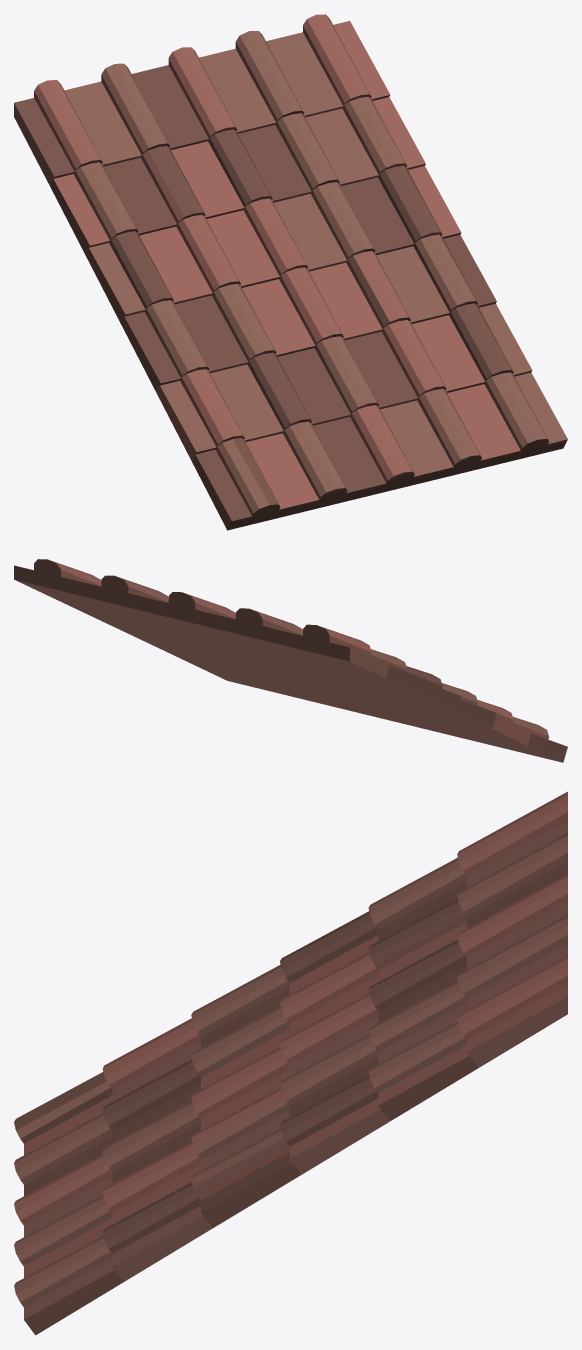
The model's file is greek_roof_tile.fbx.
3 renders of one model, top to bottom at view 1: azimuth 30°, elevation 25°; view 2: azimuth 150°, elevation 25°; view 3: azimuth 270°, elevation 25°, orthographic. The views are drawn at different scales.
Parts seen in each view (by area): view 1: Cube.037; view 2: Cube.037; view 3: Cube.037.
Part boxes in pixels (left/top/right/bottom): Cube.037: left=14, top=14, right=567, bottom=530; Cube.037: left=14, top=559, right=567, bottom=762; Cube.037: left=14, top=791, right=567, bottom=1335.
Size of the model in its own units: 300 by 244 by 343.
